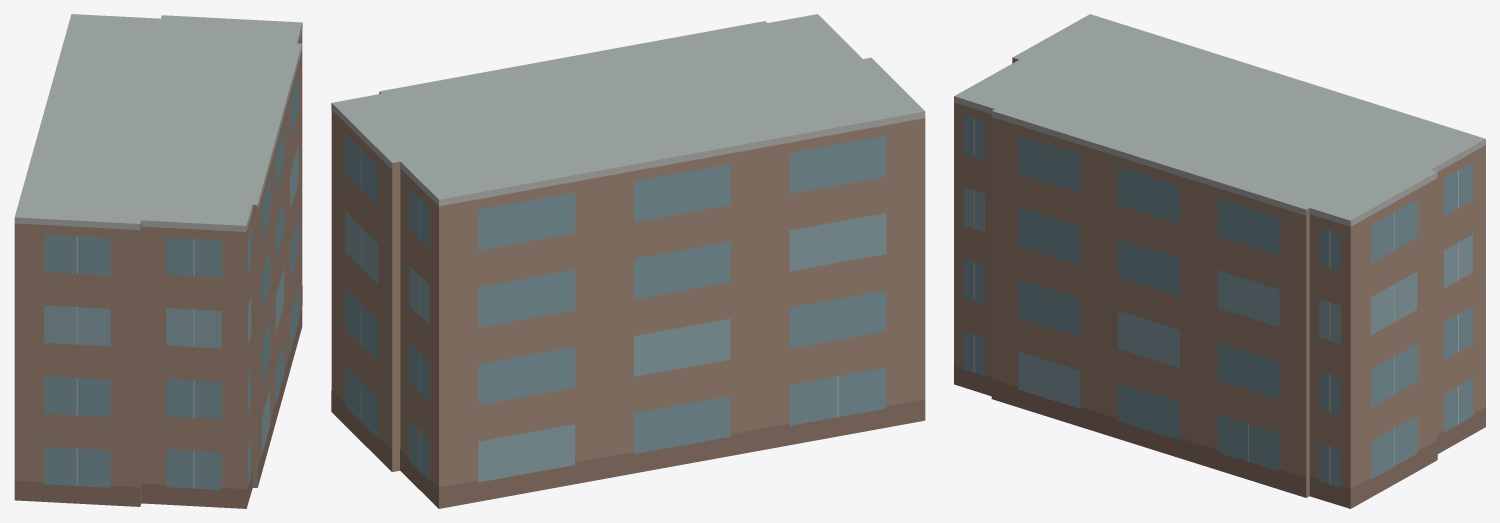
Rendered from survey-upis-33038756.glb.
3 renders of one model, left to right at view 1: azimuth 30°, elevation 25°; view 2: azimuth 150°, elevation 25°; view 3: azimuth 270°, elevation 25°, orthographic. The views are drawn at different scales.
Visible parts, largest first — view 1: survey-upis-33038756.tmp; view 2: survey-upis-33038756.tmp; view 3: survey-upis-33038756.tmp.
Boxes of the visible parts, x1,y1,x2,y2 form: survey-upis-33038756.tmp: [14, 14, 302, 508]; survey-upis-33038756.tmp: [331, 14, 925, 508]; survey-upis-33038756.tmp: [954, 14, 1485, 508].
Bounding box in the file's own units: 17.54 × 11.4 × 19.07.
